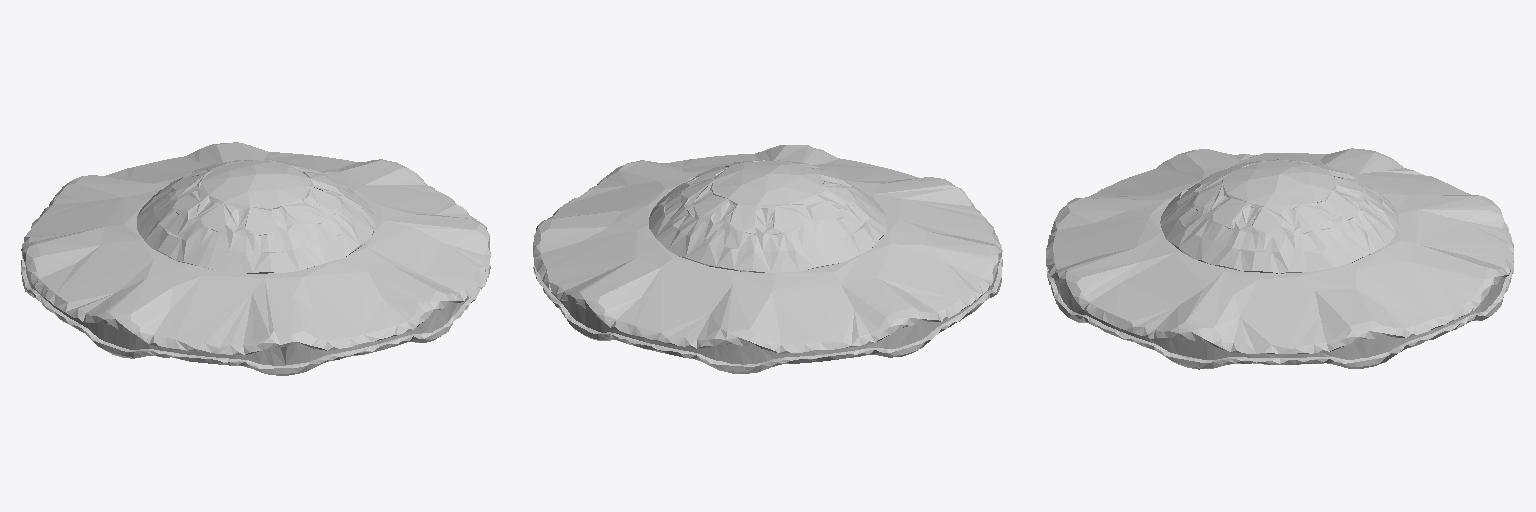
The model's file is frame_015.obj.
The picture shows the model from 3 angles: view 1: azimuth 30°, elevation 25°; view 2: azimuth 150°, elevation 25°; view 3: azimuth 270°, elevation 25°; orthographic projection.
Parts seen in each view (by area): view 1: 13884_UFO_Saucer_v1_l2; view 2: 13884_UFO_Saucer_v1_l2; view 3: 13884_UFO_Saucer_v1_l2.
Boxes of the visible parts, x1,y1,x2,y2 form: 13884_UFO_Saucer_v1_l2: [21, 142, 490, 375]; 13884_UFO_Saucer_v1_l2: [533, 145, 1002, 373]; 13884_UFO_Saucer_v1_l2: [1046, 148, 1513, 369].
Bounding box in the file's own units: 12.69 × 4.88 × 12.7.